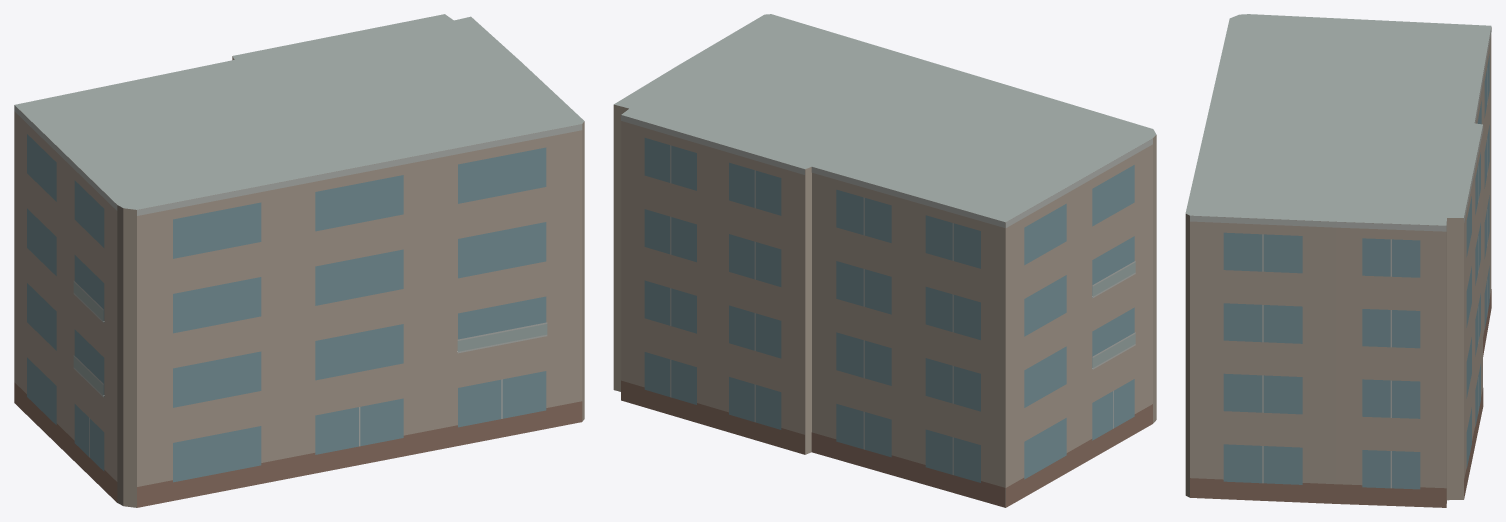
The model's file is survey-upis-32769345.glb.
The picture shows the model from 3 angles, left to right: view 1: azimuth 30°, elevation 25°; view 2: azimuth 150°, elevation 25°; view 3: azimuth 270°, elevation 25°; orthographic projection. The views are drawn at different scales.
Parts seen in each view (by area): view 1: survey-upis-32769345.tmp; view 2: survey-upis-32769345.tmp; view 3: survey-upis-32769345.tmp.
Boxes of the visible parts, x1,y1,x2,y2 form: survey-upis-32769345.tmp: [14, 14, 584, 507]; survey-upis-32769345.tmp: [613, 14, 1156, 507]; survey-upis-32769345.tmp: [1185, 14, 1491, 507].
Bounding box in the file's own units: 18.84 × 11.7 × 11.51.
